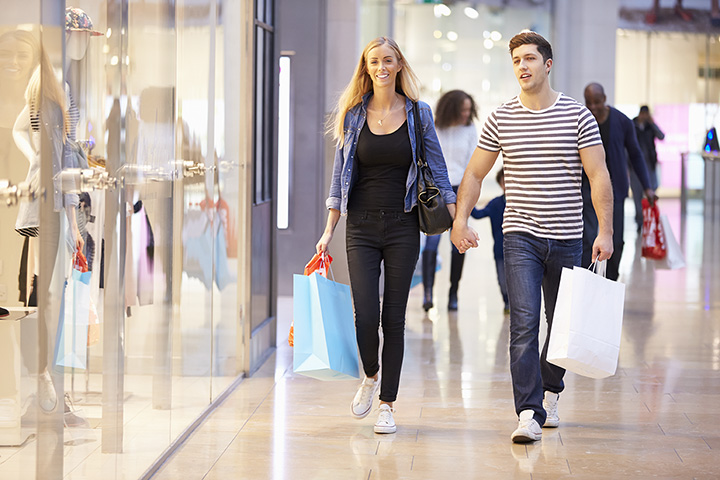Person: (462, 29, 609, 423), (320, 37, 448, 409)
